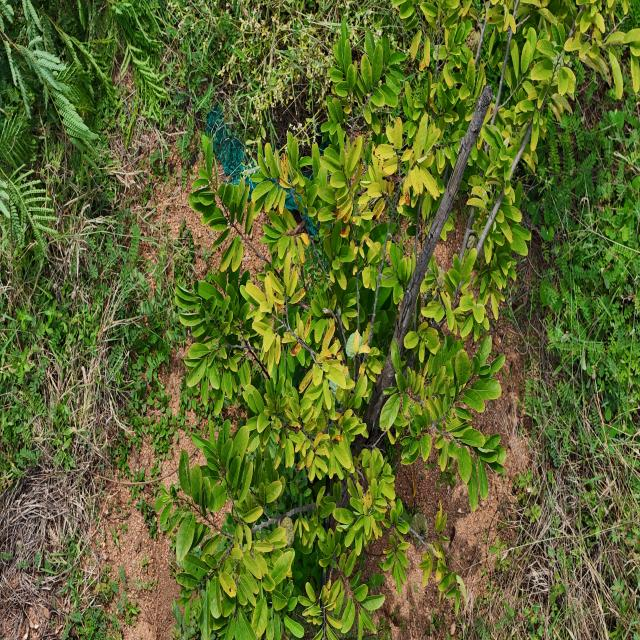notMangoTree: (151, 0, 640, 640), (0, 0, 167, 295)
